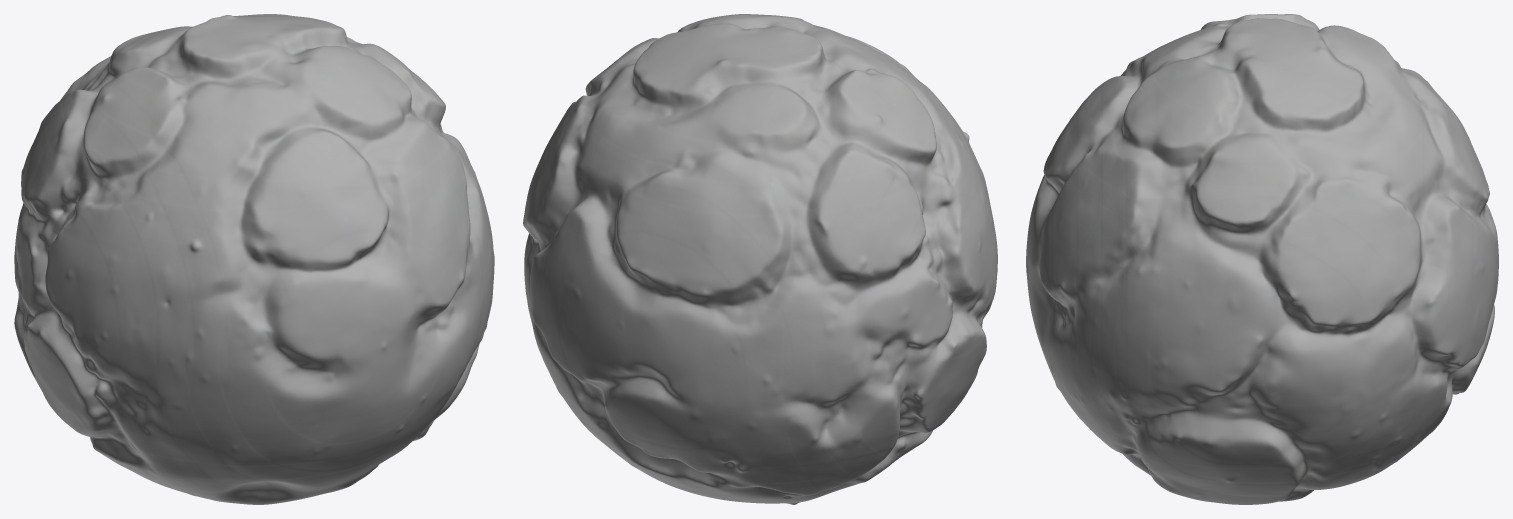
File: detailed_realistic_model_solid_10.glb
3 renders of one model, left to right at view 1: azimuth 30°, elevation 25°; view 2: azimuth 150°, elevation 25°; view 3: azimuth 270°, elevation 25°, orthographic.
Visible parts, largest first — view 1: tripo_node_39fd61fe-b390-41d3-966f-17a4dc9d4a56; view 2: tripo_node_39fd61fe-b390-41d3-966f-17a4dc9d4a56; view 3: tripo_node_39fd61fe-b390-41d3-966f-17a4dc9d4a56.
Boxes of the visible parts, <box> form: tripo_node_39fd61fe-b390-41d3-966f-17a4dc9d4a56: <box>14,14,494,504</box>; tripo_node_39fd61fe-b390-41d3-966f-17a4dc9d4a56: <box>523,14,997,504</box>; tripo_node_39fd61fe-b390-41d3-966f-17a4dc9d4a56: <box>1026,14,1498,504</box>.
Size of the model in its own units: 0.9958 by 1 by 0.9864.
Materials: 1 (1 with a texture image).
